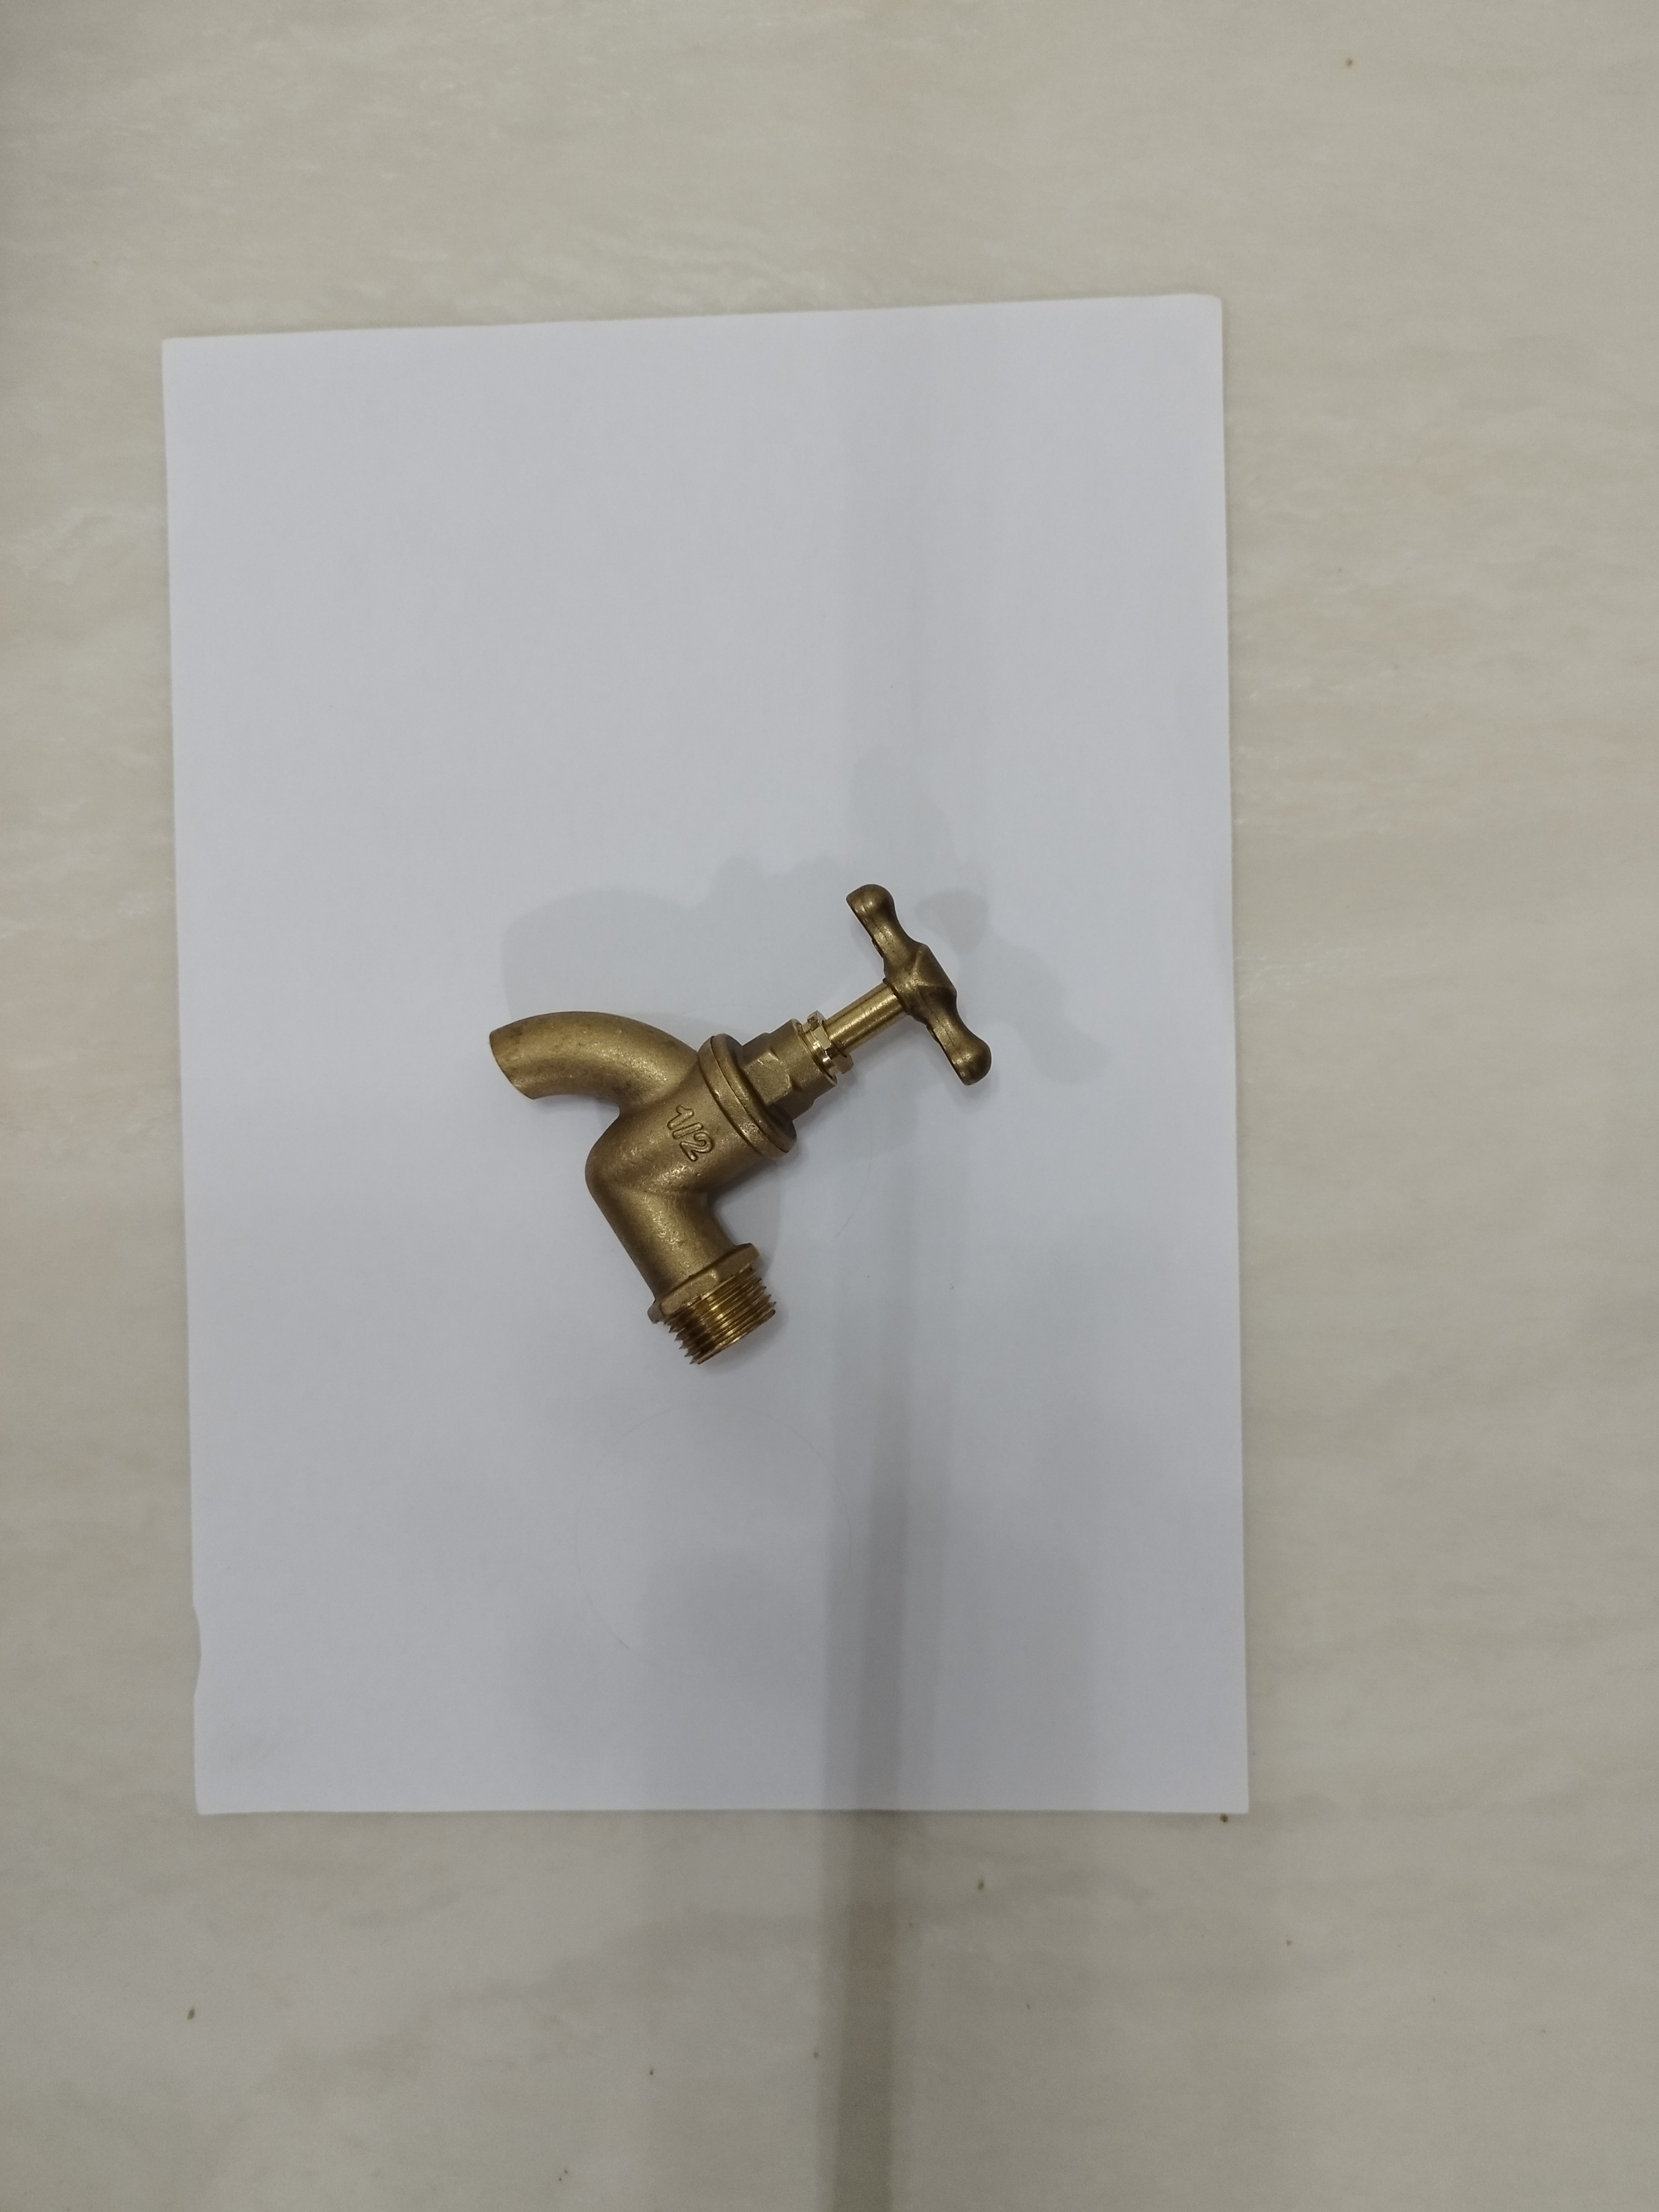brass_water_tap: (483, 878, 1006, 1386)
